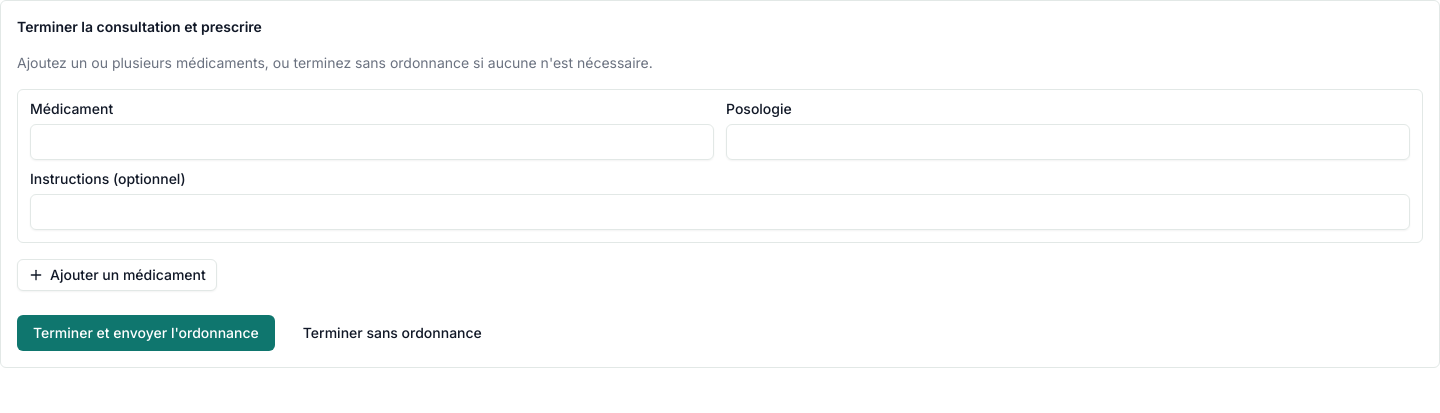
Test: CompleteConsultationForm › requires a medication name and dosage before submitting
The image size is (1440, 413).
Step 1. Click the button "Terminer et envoyer l'ordonnance" → coordinates (146, 333), box [17, 315, 275, 351]
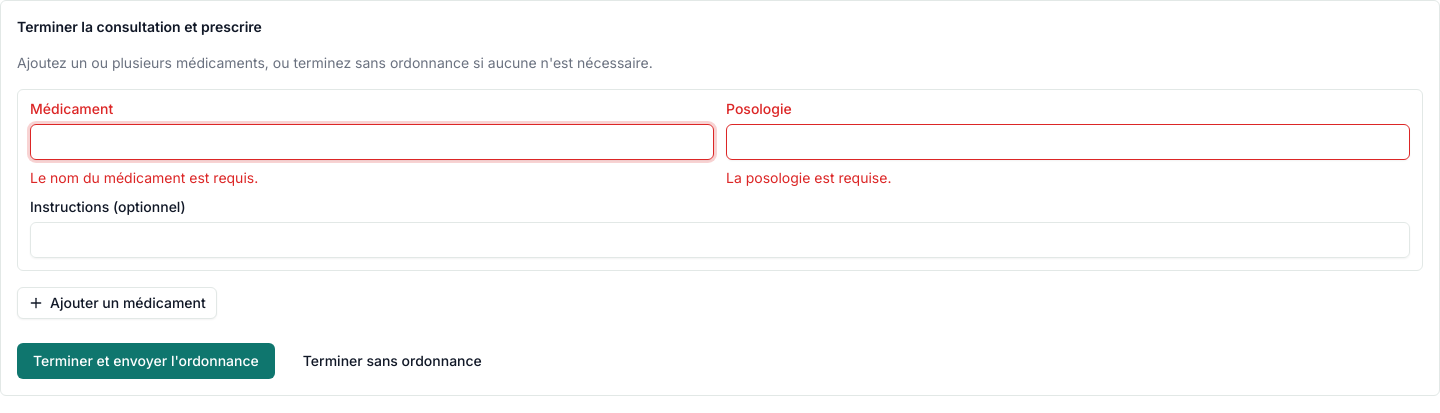
Result: the text "Le nom du médicament est requis." is shown at [30, 169, 258, 186]
Result: the text "La posologie est requise." is shown at [726, 169, 891, 186]
